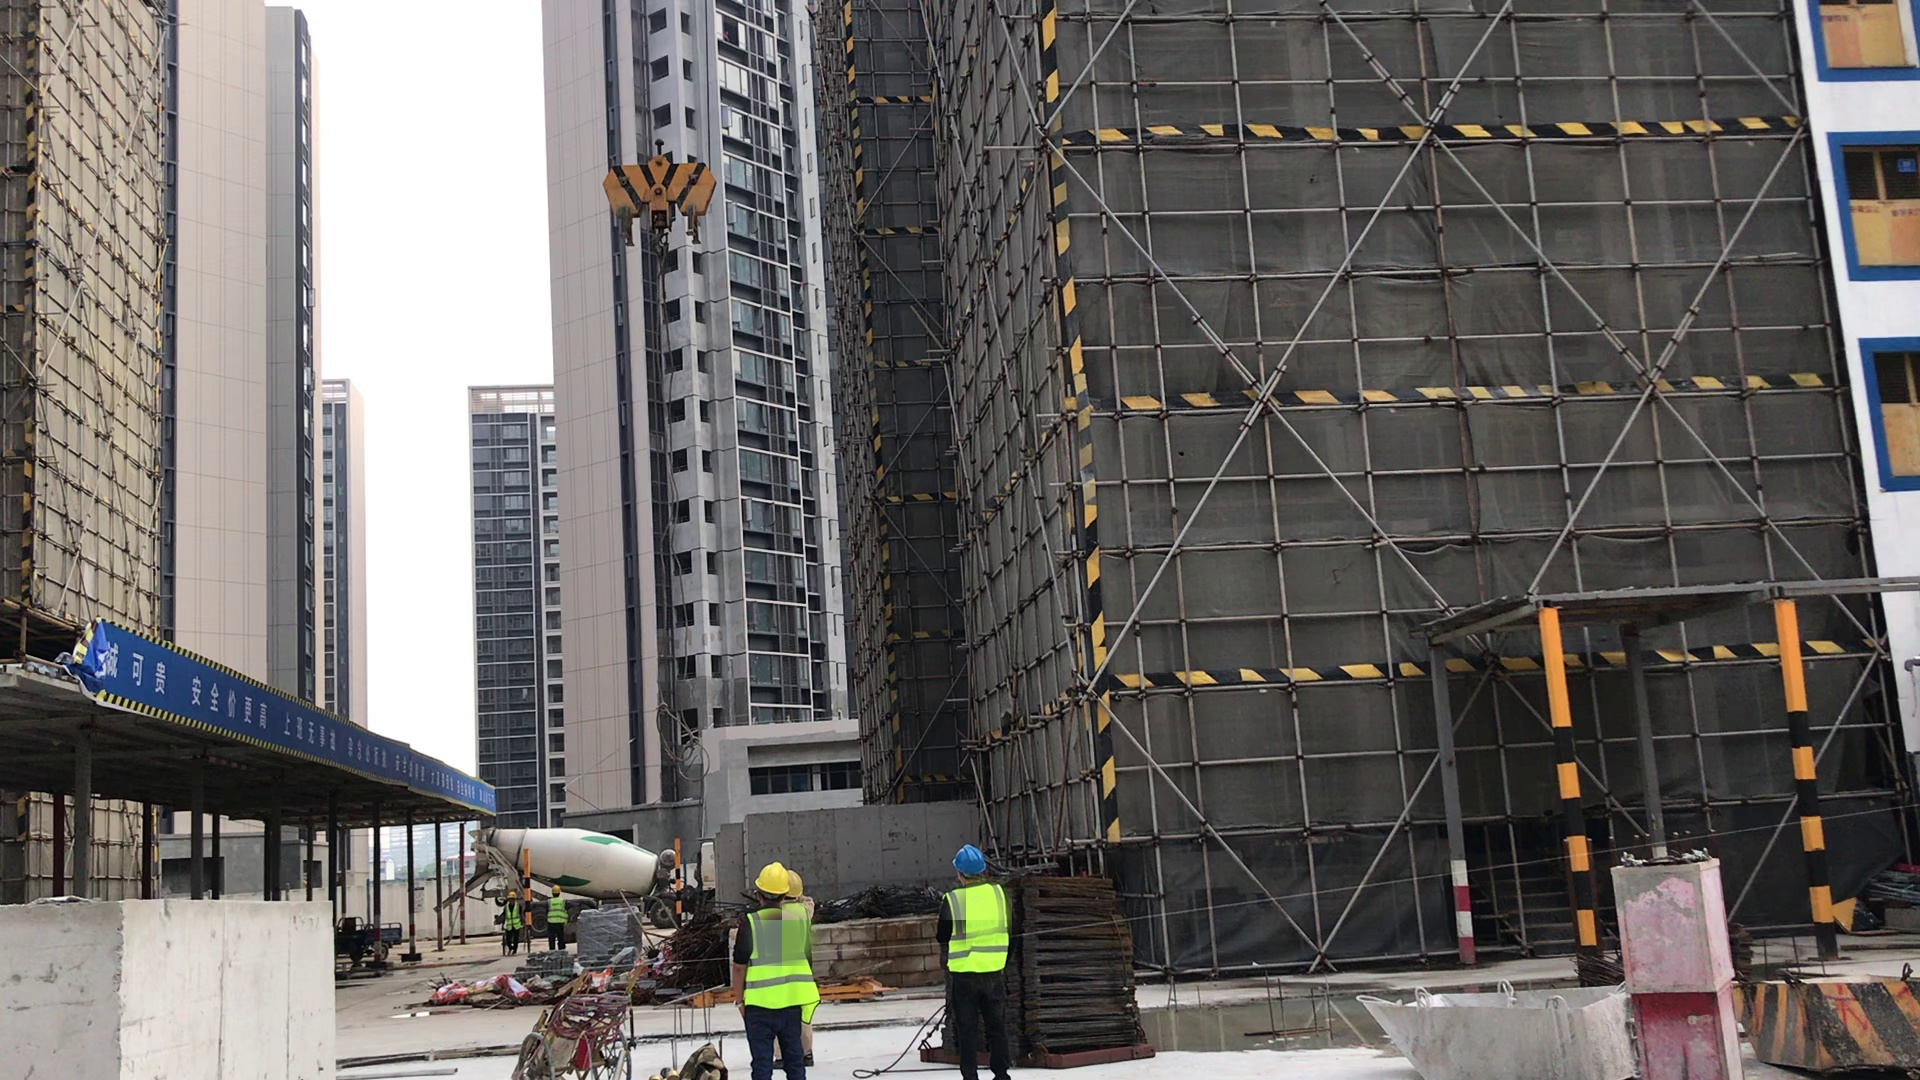handcart: (521, 1006, 640, 1079)
helmet: (756, 863, 788, 894), (953, 846, 986, 875), (785, 869, 802, 898), (551, 885, 561, 896), (507, 891, 516, 900)
hook: (604, 154, 713, 256)
hopper: (1359, 988, 1639, 1080)
person: (732, 862, 810, 1080), (942, 846, 1012, 1080), (543, 883, 567, 947), (505, 891, 520, 961)
slogan: (70, 619, 498, 811)
vest: (747, 912, 819, 1011), (945, 884, 1009, 969), (547, 898, 567, 924), (504, 904, 520, 931)
